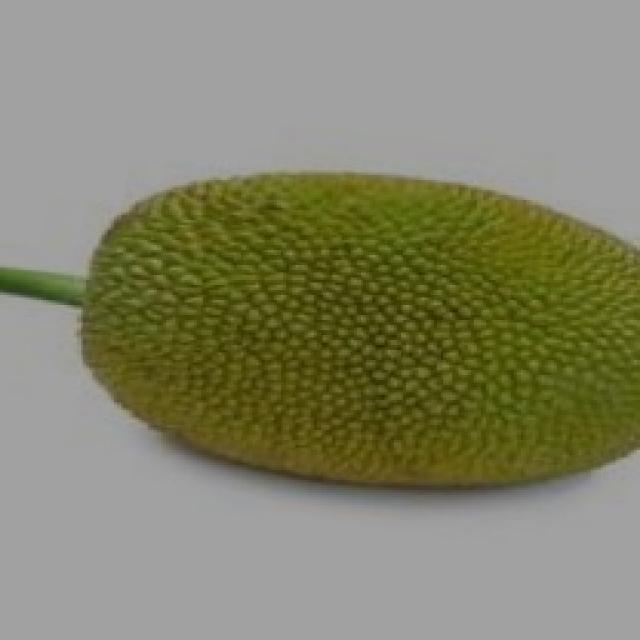Fruit: (255, 155, 640, 517), (55, 160, 434, 515)
